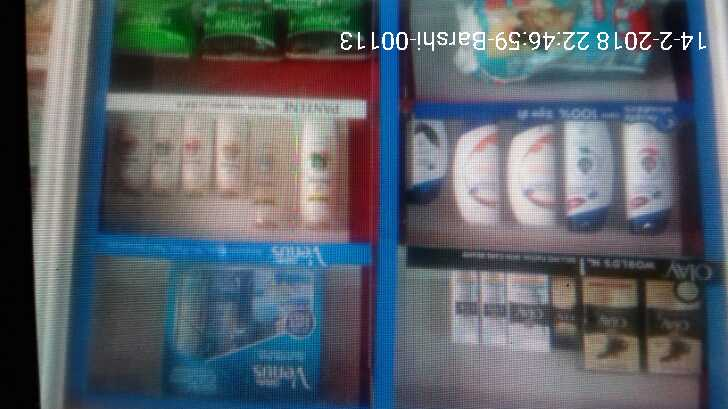venus: (165, 266, 323, 394)
